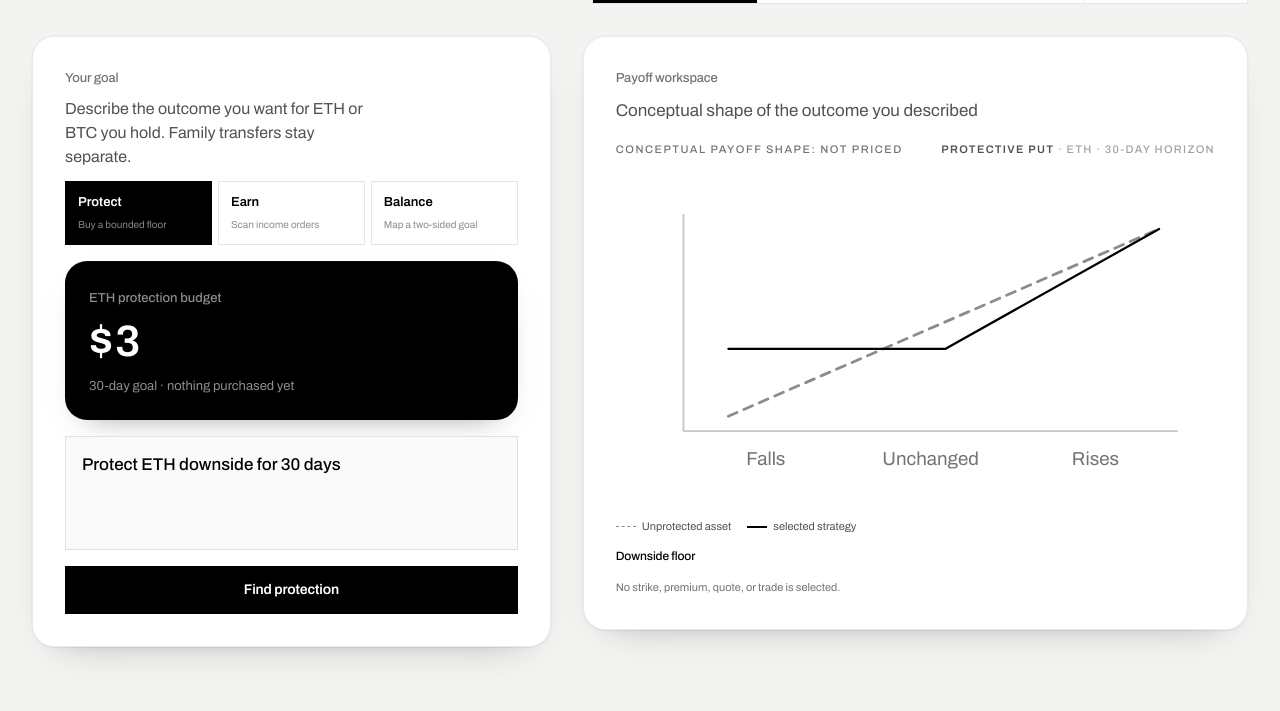
Test: StrategyDesk — invalid draft (no submit) › shows Refine your goal and no payoff path when the draft has no asset
(page scrolled)
Replace the text in the text box named "Strategy goal" with "just looking around" at (291,493), box [65,436,518,550]
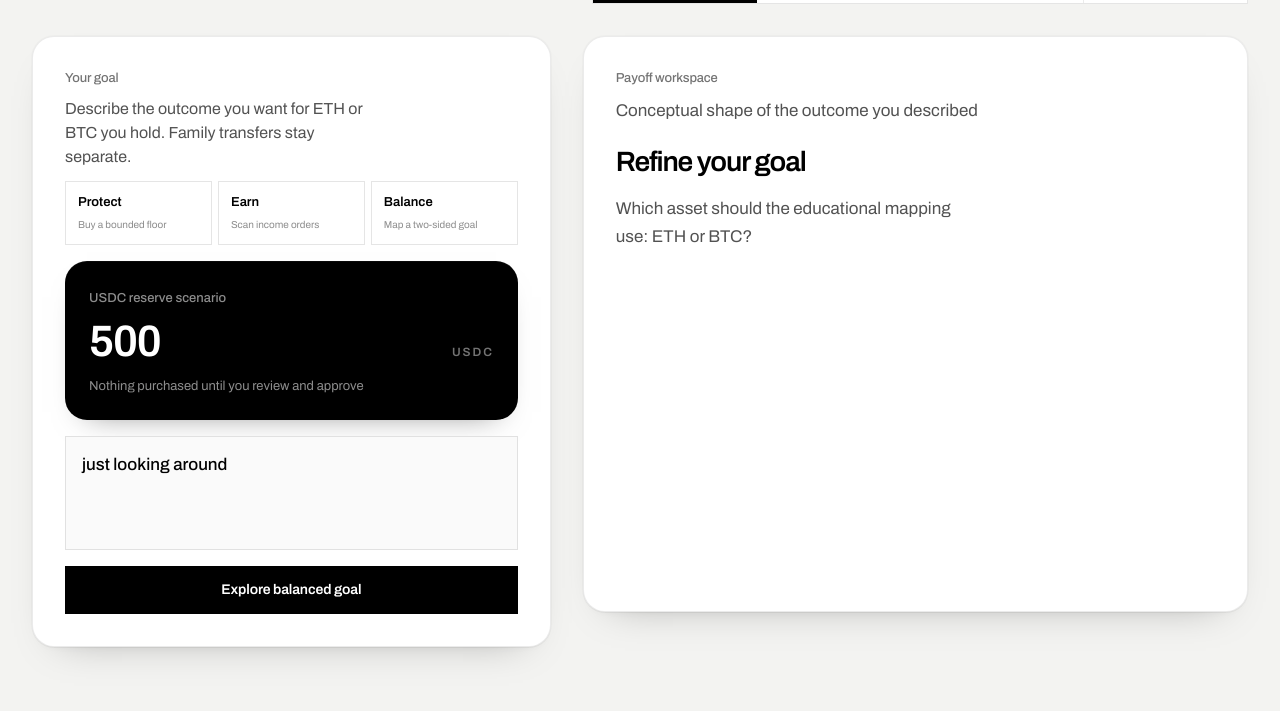
Result: the text "Refine your goal" is shown at [616,146,806,177]
Result: the picture is gone
Result: the text "Conceptual payoff shape: not priced" is gone
